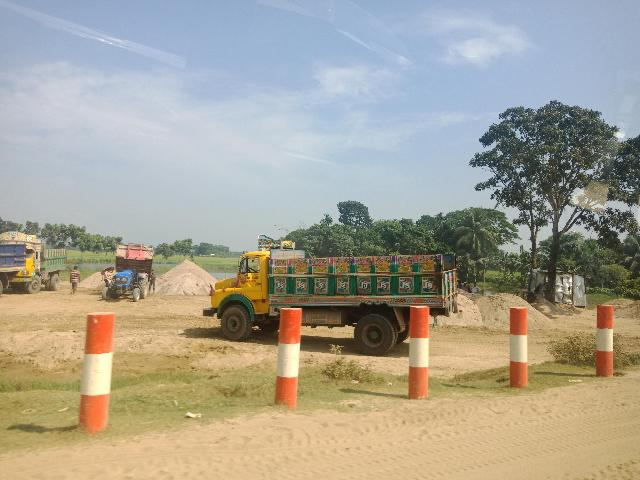truck: (198, 233, 463, 357), (2, 229, 69, 294), (99, 238, 160, 306)
